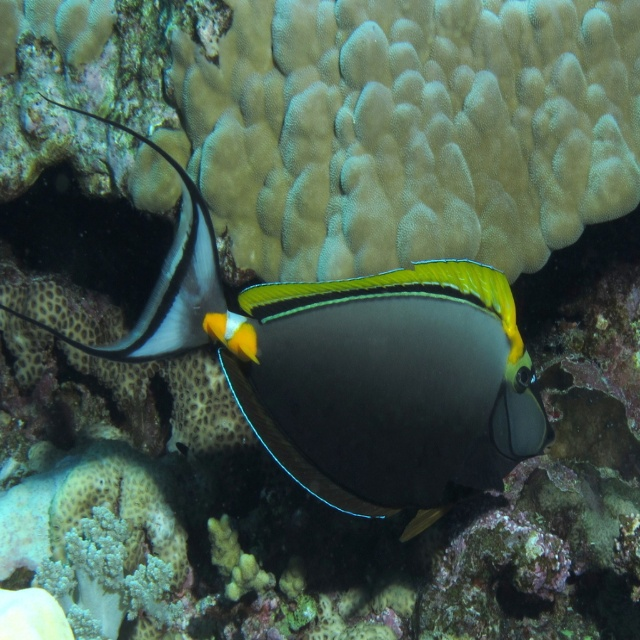Fish: (0, 88, 554, 547)
